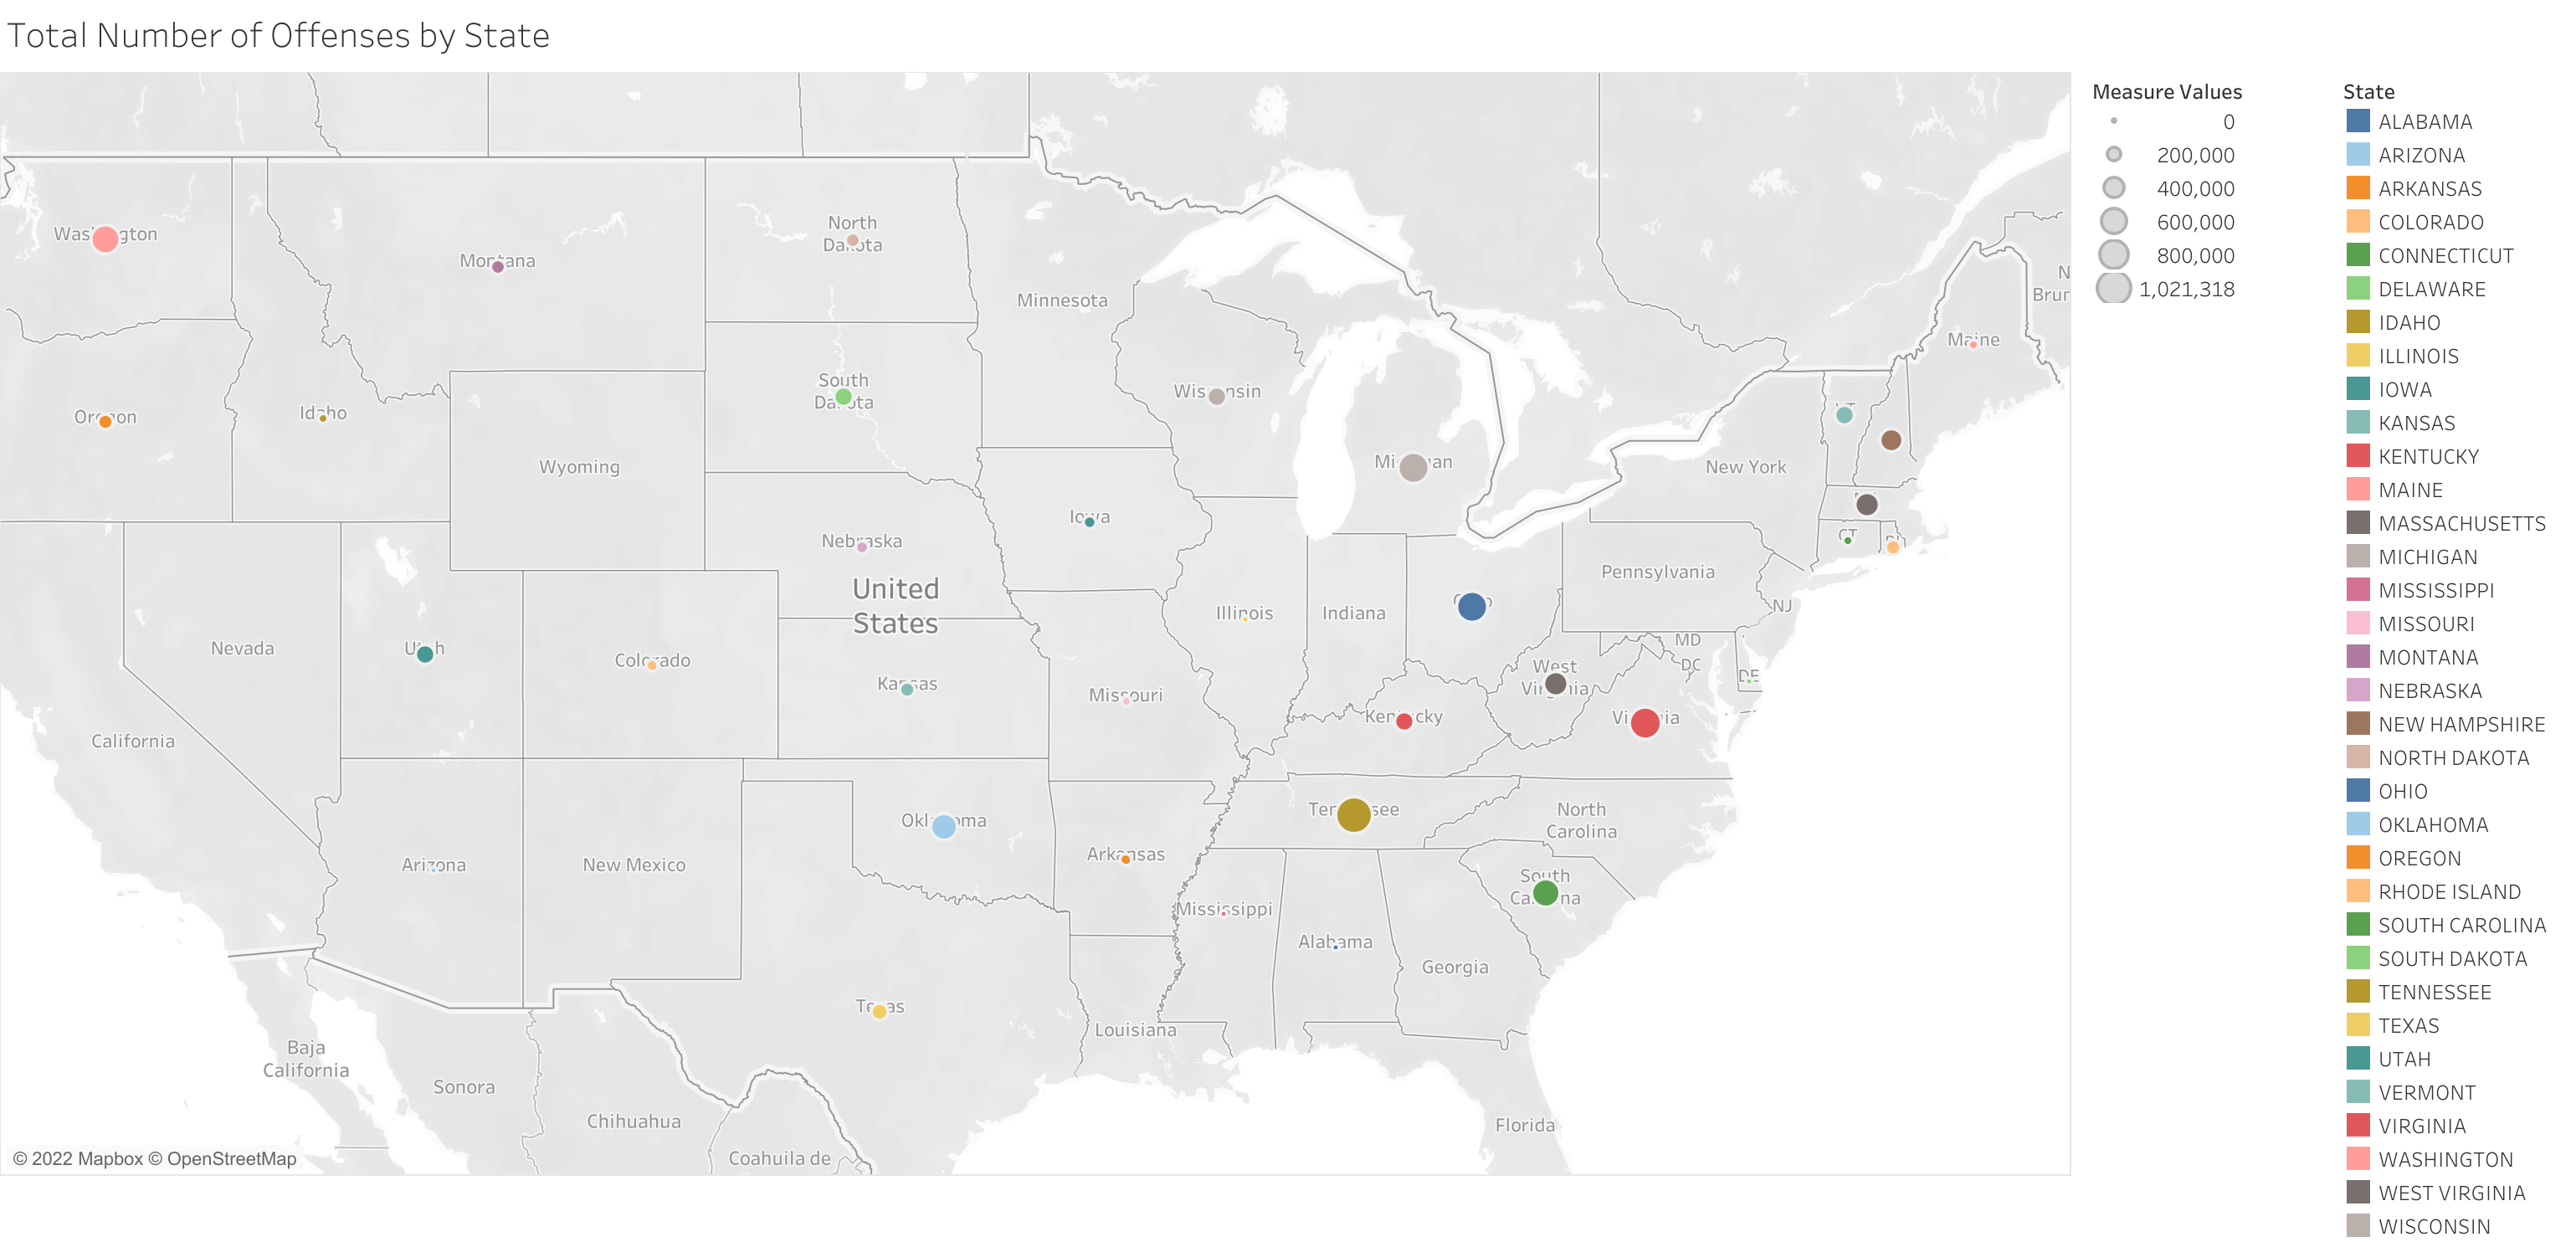

The page's visual inventory and layout, read from the dashboard file:
{"tool":"tableau","page":{"name":"Dashboard 1","canvas":[1000,800],"ordinal":0},"visuals":[{"type":"worksheet","title":"Sheet 1","mark":"Automatic","box":[8,8,824,784]},{"type":"legend","title":"Sheet 1","param":"[federated.0pb2w2z1tr55ht15fuzlv0qnhtr6].[none:State:nk]","box":[832,8,160,638]},{"type":"legend","title":"Sheet 1","param":"[federated.0pb2w2z1tr55ht15fuzlv0qnhtr6].[Multiple Values]","box":[832,646,160,146]}]}

Visuals, with their boxes on the page's 1000x800 design canvas (x1, y1, x2, y2). These are canvas units, not pixel positions in the 2576x1242 screenshot, which may show the page scaled, cropped or inside an application window:
"Sheet 1" worksheet: box=[8, 8, 832, 792]
"Sheet 1" legend: box=[832, 8, 992, 646]
"Sheet 1" legend: box=[832, 646, 992, 792]
